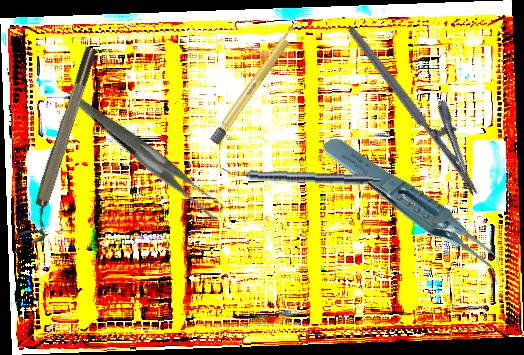Dressing Forceps: (73, 61, 227, 249)
Fixation Ring: (16, 45, 109, 246)
Handpiece: (221, 166, 381, 186)
Needle Holder: (345, 7, 503, 199)
Scalpel Handle: (209, 19, 303, 146)
Tissue Forceps: (320, 106, 510, 315)
